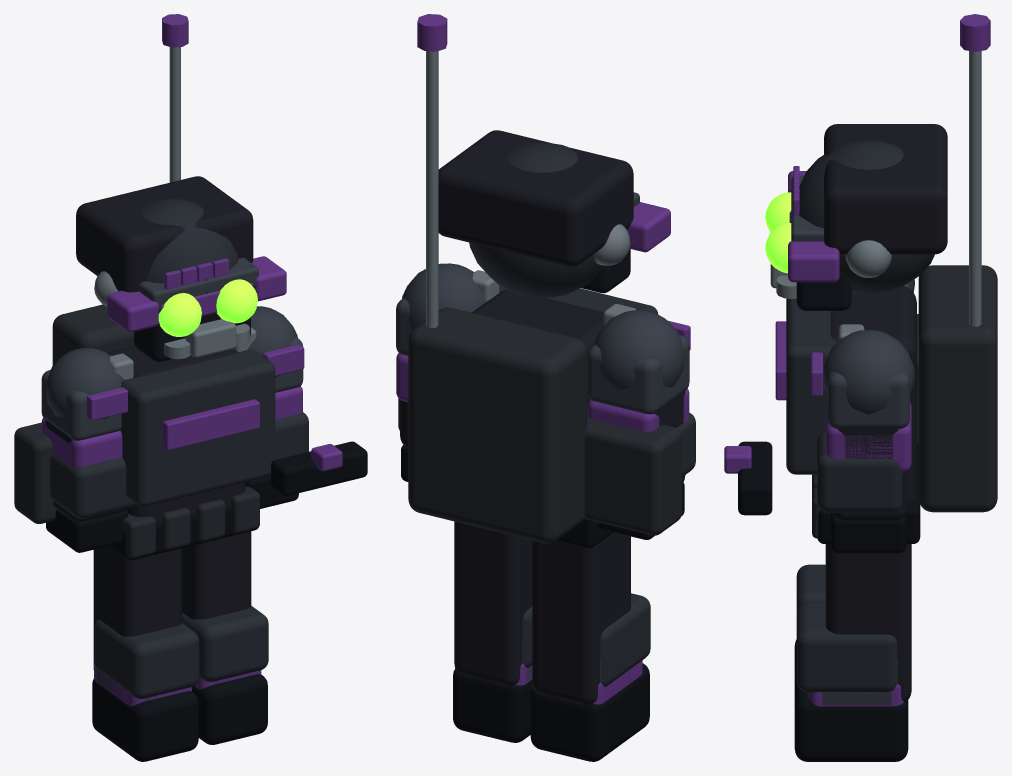
File: recon_l04.glb
3 renders of one model, left to right at view 1: azimuth 30°, elevation 25°; view 2: azimuth 150°, elevation 25°; view 3: azimuth 270°, elevation 25°, orthographic. The views are drawn at different scales.
Visible parts, largest first — view 1: segmented_vest, trouser (×2), shaped_knee_guard (×2), hood, boot (×2), forearm_plate (×2), shoulder_joint (×2), rounded_helmet, map_satchel, scanner, glove (×2), dzn_chest_flash (+20 smaller); view 2: field_pack, trouser (×2), hood, boot (×2), map_satchel, shoulder_joint (×2), rounded_helmet, shoulder_plate (×2), body, shaped_knee_guard (×2), signal_mast, rank_stripe (×2) (+10 smaller); view 3: field_pack, hood, trouser, shaped_knee_guard (×2), boot, segmented_vest, rounded_helmet, shoulder_joint, forearm_plate, body, signal_mast, shoulder_plate (+17 smaller).
Part boxes in pixels (x1,y1,x2,y2): segmented_vest: (120,349,275,507); trouser (×2): (93,531,251,669); shaped_knee_guard (×2): (94,606,268,699); hood: (76,176,253,292); boot (×2): (92,674,267,761); forearm_plate (×2): (50,412,308,518); shoulder_joint (×2): (46,306,297,419); rounded_helmet: (141,199,238,293); map_satchel: (14,422,56,523); scanner: (271,441,367,495); glove (×2): (46,476,298,552); dzn_chest_flash: (162,399,259,450); field_pack: (408,307,587,543); trouser (×2): (454,521,630,705); hood: (438,130,633,266); boot (×2): (453,663,649,761); map_satchel: (584,415,681,535); shoulder_joint (×2): (402,263,684,390); rounded_helmet: (469,143,604,297); shoulder_plate (×2): (396,298,689,414); body: (472,289,603,414); shaped_knee_guard (×2): (522,593,650,686); signal_mast: (426,51,438,327); rank_stripe (×2): (396,353,689,431); field_pack: (918,265,997,512); hood: (824,124,947,254); trouser: (825,544,911,701); shaped_knee_guard (×2): (796,564,897,692); boot: (794,677,908,761); segmented_vest: (786,298,836,474); rounded_helmet: (791,140,934,294); shoulder_joint: (823,329,914,414); forearm_plate: (817,431,901,512); body: (830,286,916,503); signal_mast: (969,51,981,326); shoulder_plate: (827,352,909,428).
Size of the model in its own units: 1.02 by 2.36 by 0.795.
